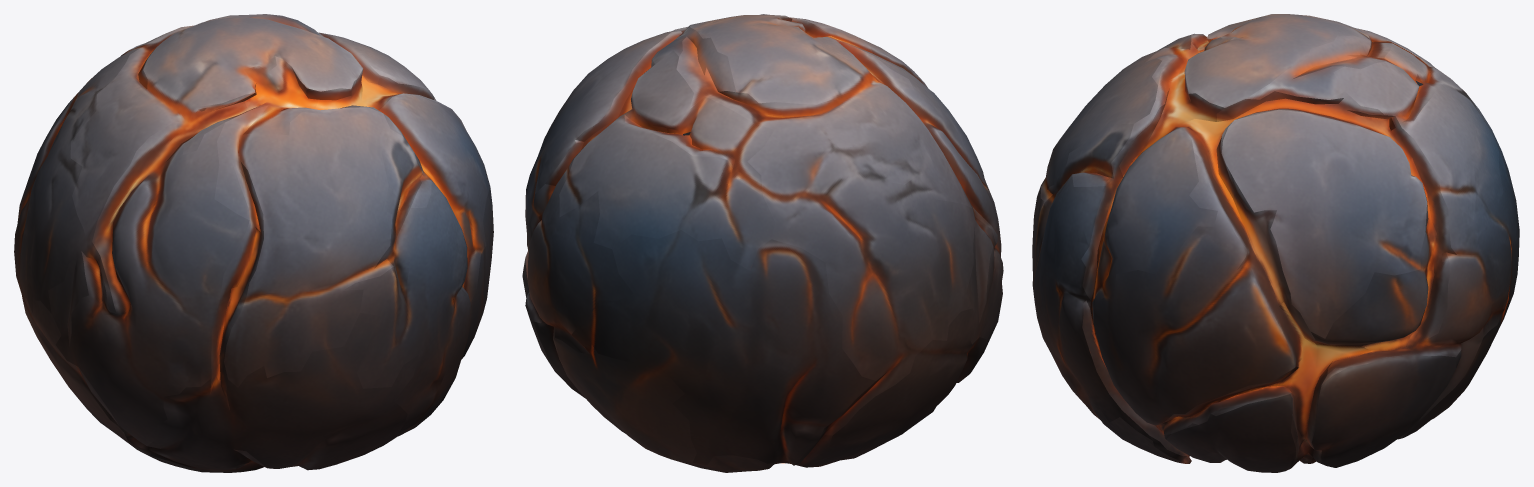
3 renders of one model, left to right at view 1: azimuth 30°, elevation 25°; view 2: azimuth 150°, elevation 25°; view 3: azimuth 270°, elevation 25°, orthographic. The views are drawn at different scales.
Parts seen in each view (by area): view 1: world; view 2: world; view 3: world.
Boxes of the visible parts, x1,y1,x2,y2 form: world: (14, 14, 493, 472); world: (522, 14, 1003, 472); world: (1032, 14, 1519, 472).
Size of the model in its own units: 0.08 by 0.0737 by 0.0798.
Materials: 1 (1 with a texture image).
